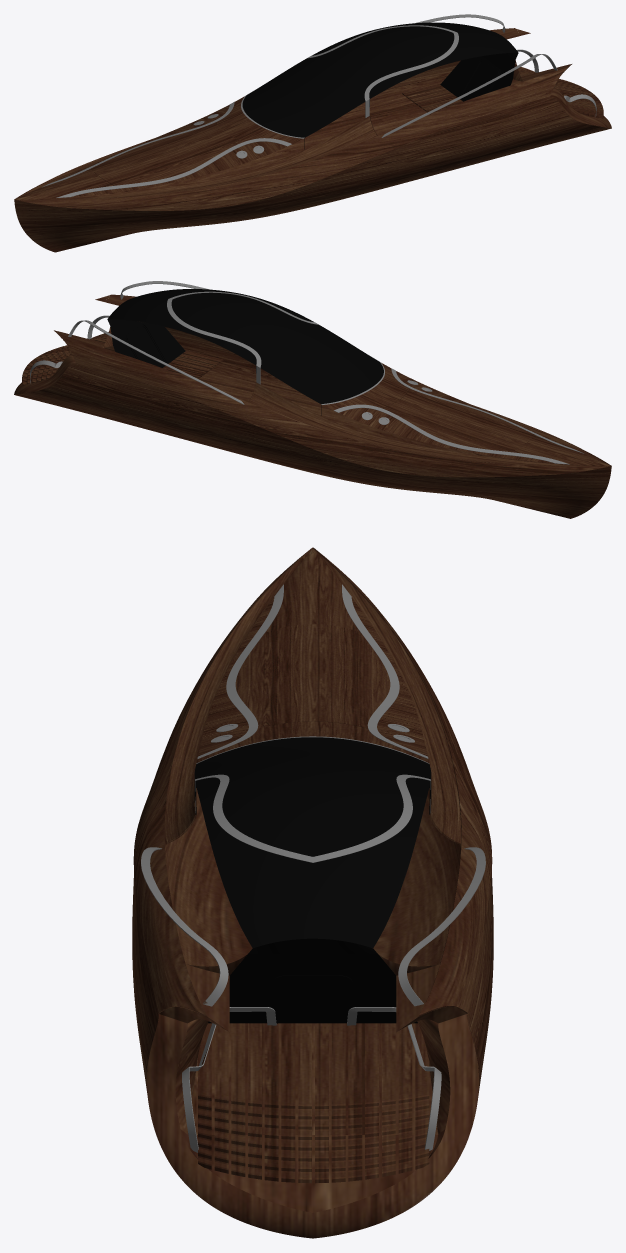
The model's file is yacht.glb.
3 views of the same model, one above another, from view 1: azimuth 30°, elevation 25°; view 2: azimuth 150°, elevation 25°; view 3: azimuth 270°, elevation 25° (orthographic). The views are drawn at different scales.
Parts seen in each view (by area): view 1: Object_7, Object_4, Object_6, Object_3, Object_9, Object_2, Object_8, Object_11, Object_12; view 2: Object_7, Object_4, Object_6, Object_3, Object_9, Object_2, Object_8, Object_11, Object_12; view 3: Object_4, Object_7, Object_6, Object_9, Object_3, Object_8, Object_10, Object_2, Object_5.
Boxes of the visible parts, x1,y1,x2,y2 form: Object_7: (14,60,610,252); Object_4: (242,22,518,137); Object_6: (15,96,376,199); Object_3: (43,25,521,197); Object_9: (14,28,603,204); Object_2: (381,14,596,137); Object_8: (491,28,611,128); Object_11: (405,69,603,118); Object_12: (42,26,449,197); Object_7: (15,327,611,518); Object_4: (107,289,383,403); Object_6: (249,363,610,466); Object_3: (104,291,583,464); Object_9: (22,294,611,471); Object_2: (30,281,244,404); Object_8: (14,295,134,394); Object_11: (22,335,220,384); Object_12: (173,292,583,464); Object_4: (194,737,431,953); Object_7: (132,549,493,1194); Object_6: (164,548,461,843); Object_9: (164,547,461,1183); Object_3: (188,584,437,1134); Object_8: (146,954,478,1238); Object_10: (175,1013,450,1212); Object_2: (141,847,485,1152); Object_5: (158,725,467,1023).
Size of the model in its own units: 4372 by 908 by 1178.
2 materials, 2 textured.
